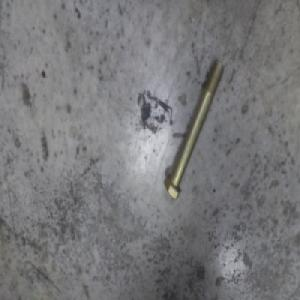Bolt: (161, 63, 220, 199)
